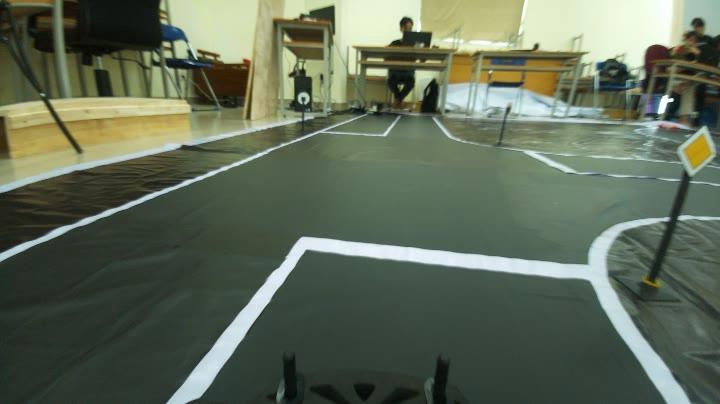priority: (668, 124, 718, 178)
